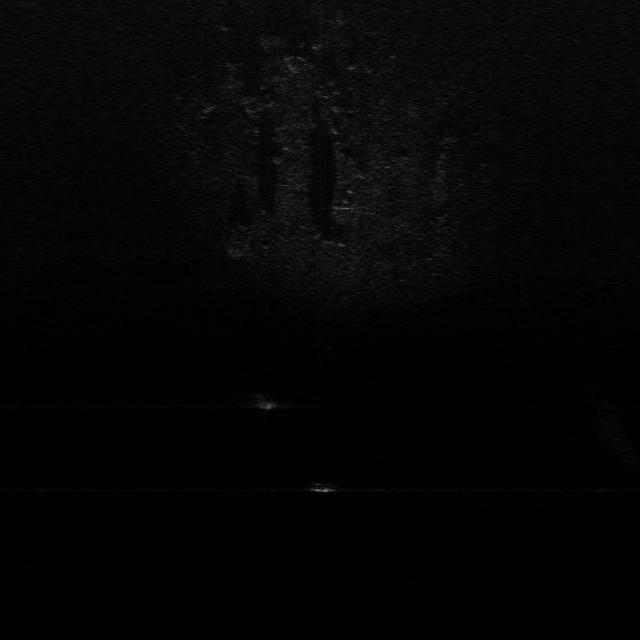cube: (304, 479, 342, 496)
square cage: (250, 390, 280, 413)
